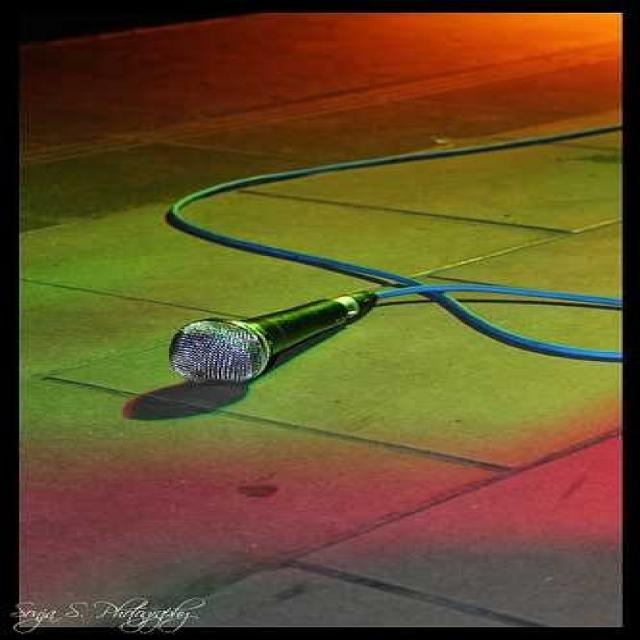microphone: (132, 280, 408, 388)
